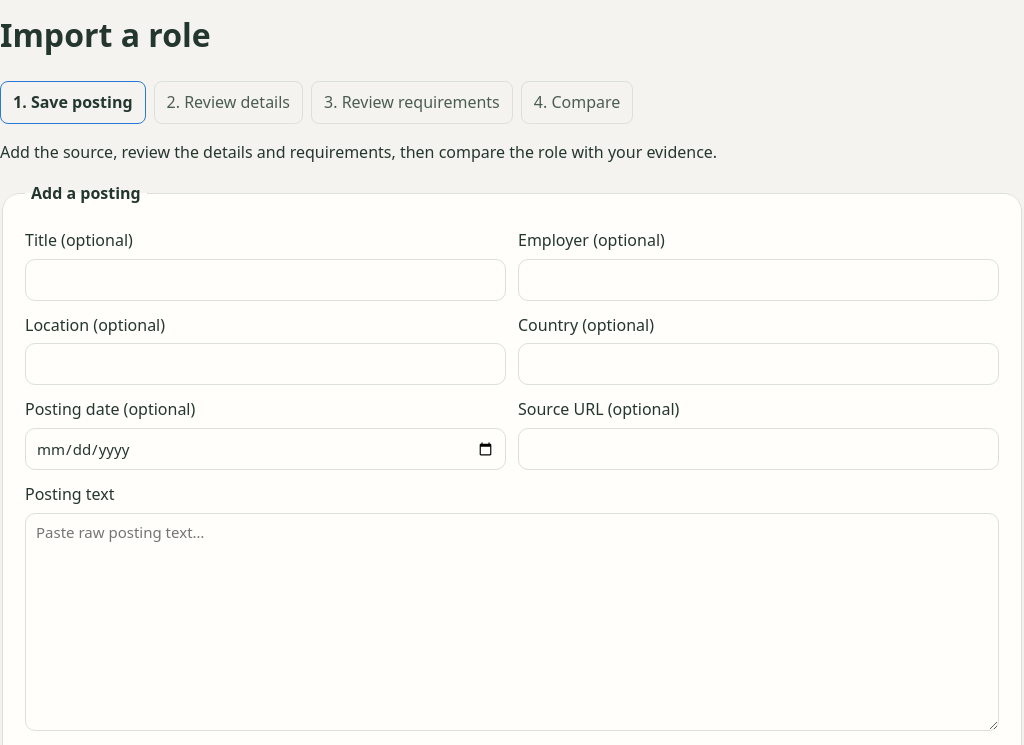
Import — exact duplicate warning › warns instead of capturing, and offers Open existing / Capture anyway
Step 1. Type "Life Actuarial Manager at Forvis Mazars in Ireland." into the text box with placeholder "Paste raw posting text…" → {"x": 512, "y": 622}, box [25, 513, 999, 731]
(page scrolled)
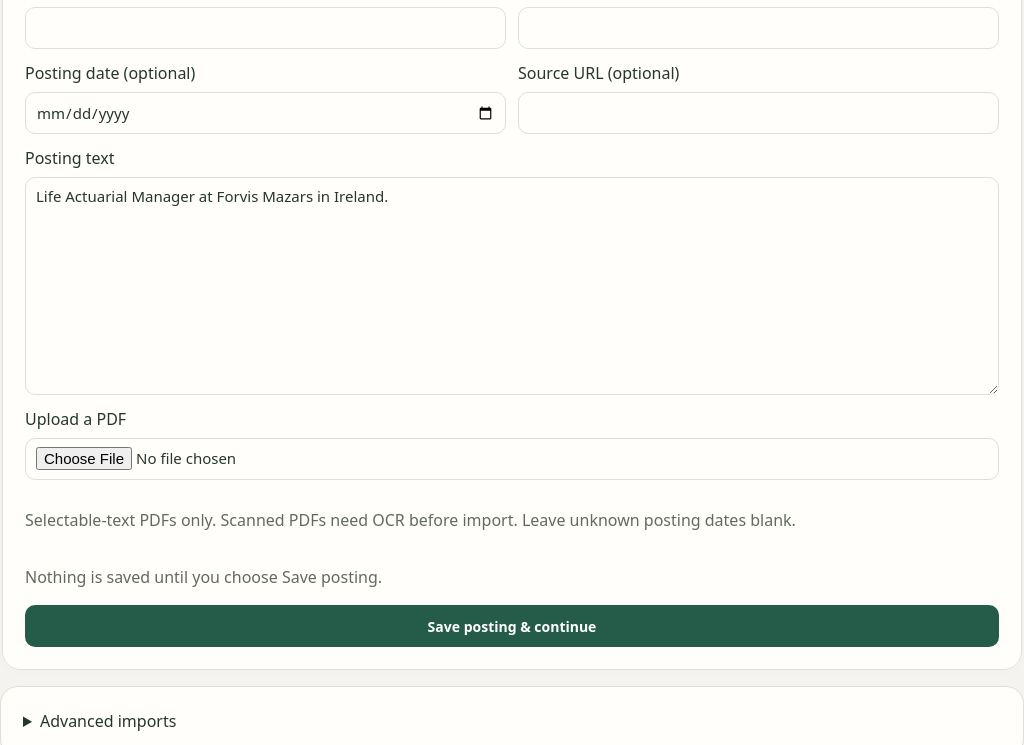
Step 2. Click the button "Save posting & continue" → {"x": 512, "y": 626}, box [25, 605, 999, 647]
(page scrolled)
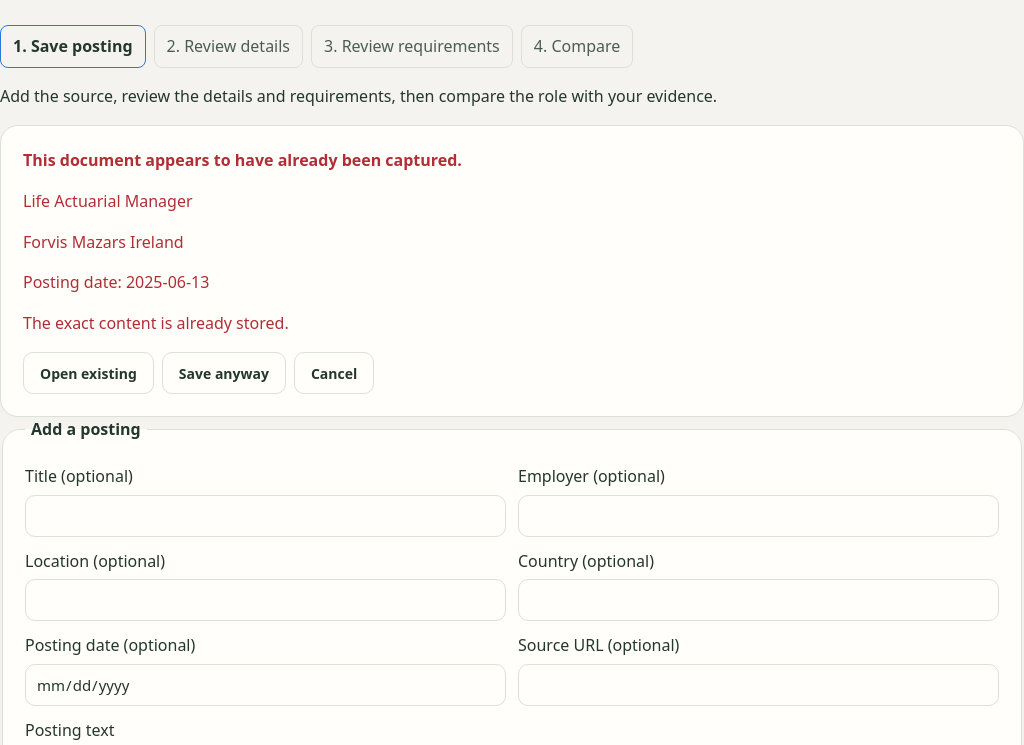
expect the text "This document appears to have already been captured." is shown: met, box [23, 149, 462, 171]
expect the text "Forvis Mazars Ireland" is shown: met, box [23, 231, 184, 253]
expect the button "Open existing" is shown: met, box [23, 352, 154, 394]
